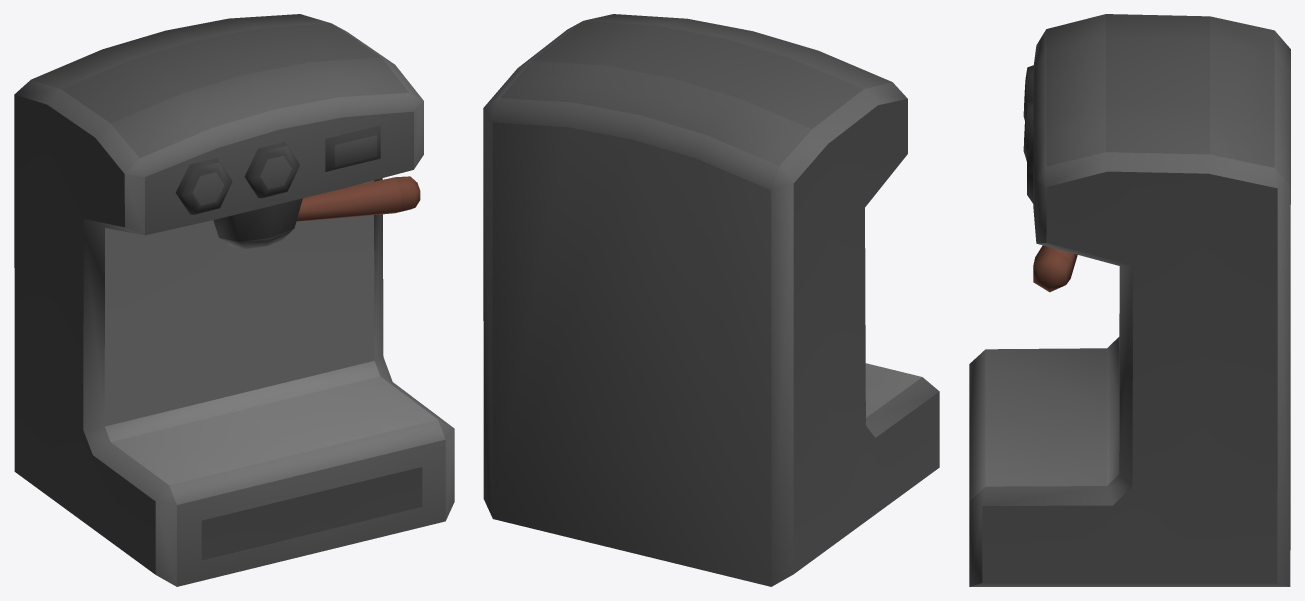
File: CoffeeMachine.fbx
3 views of the same model, side by side, from view 1: azimuth 30°, elevation 25°; view 2: azimuth 150°, elevation 25°; view 3: azimuth 270°, elevation 25° (orthographic). The views are drawn at different scales.
Parts seen in each view (by area): view 1: CoffeeMachine; view 2: CoffeeMachine; view 3: CoffeeMachine.
Part boxes in pixels (x1,y1,x2,y2): CoffeeMachine: [14, 14, 454, 586]; CoffeeMachine: [483, 14, 939, 586]; CoffeeMachine: [969, 14, 1290, 586].
Bounding box in the file's own units: 76.68 × 105 × 68.24.
